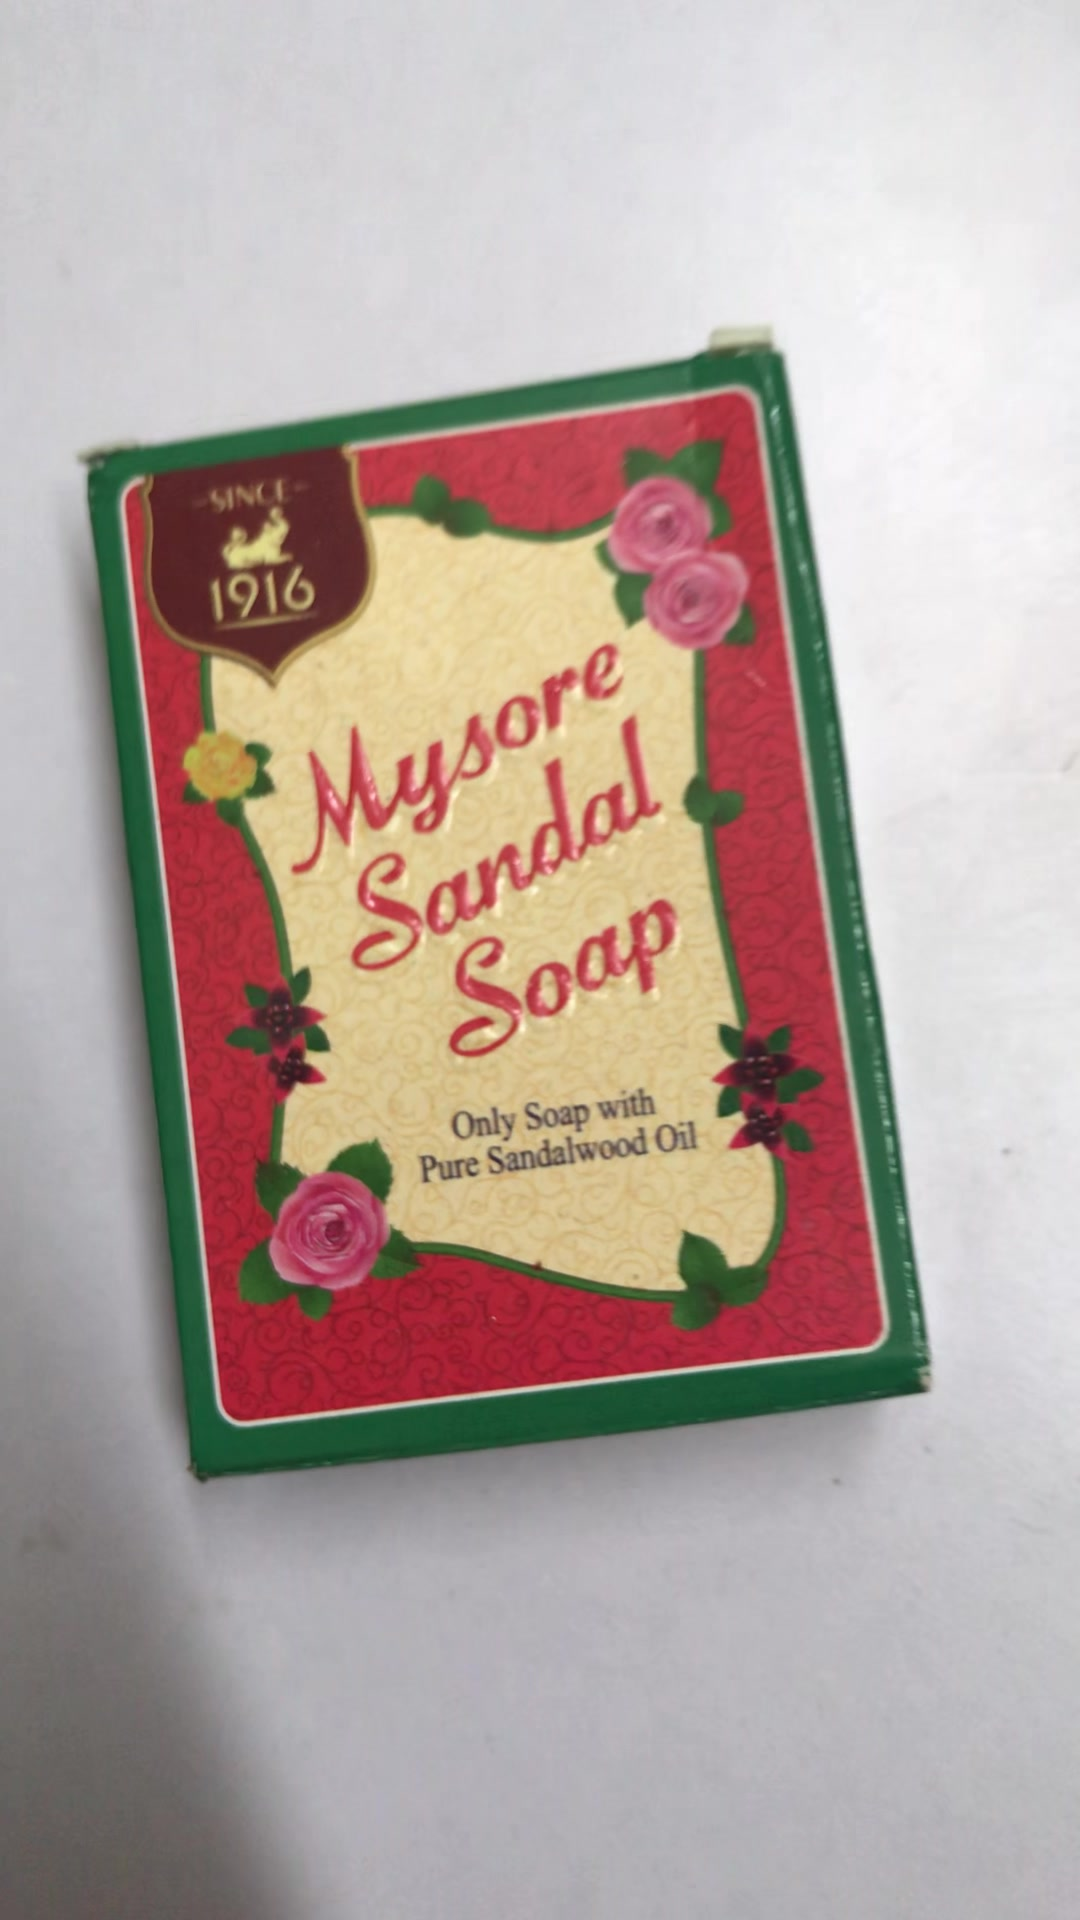mysore sandal soap: (84, 340, 932, 1481)
